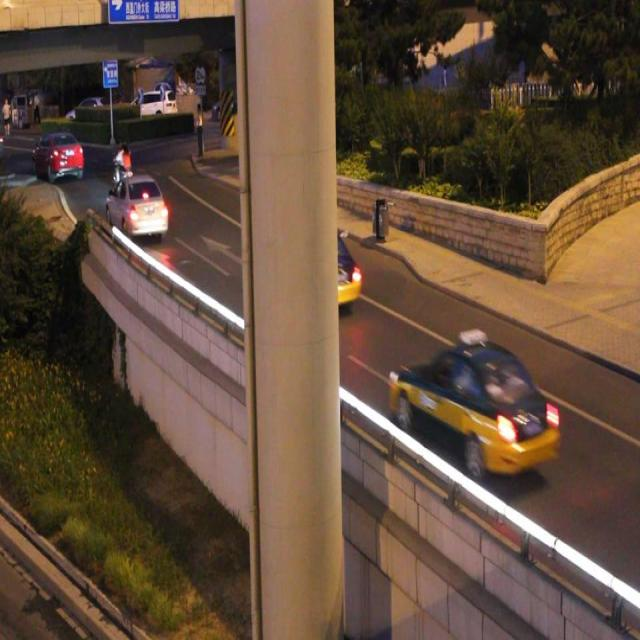car: (391, 338, 558, 474), (269, 231, 360, 309), (108, 177, 168, 238), (34, 134, 83, 178)
